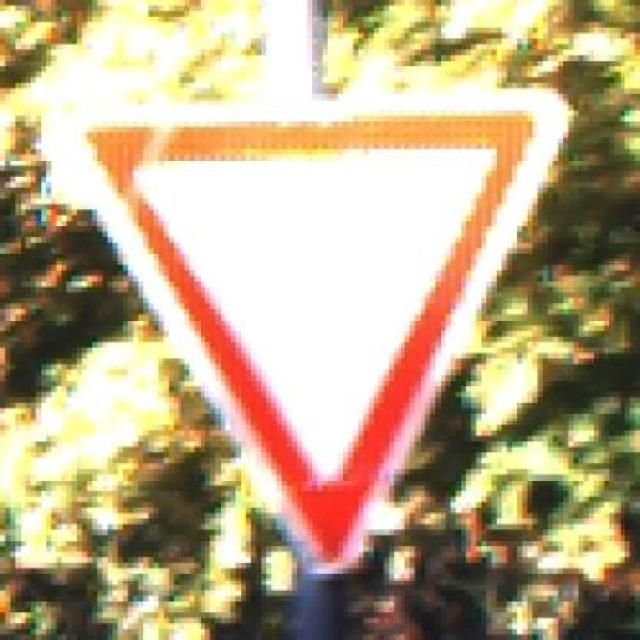Give Way: (39, 77, 608, 601)
